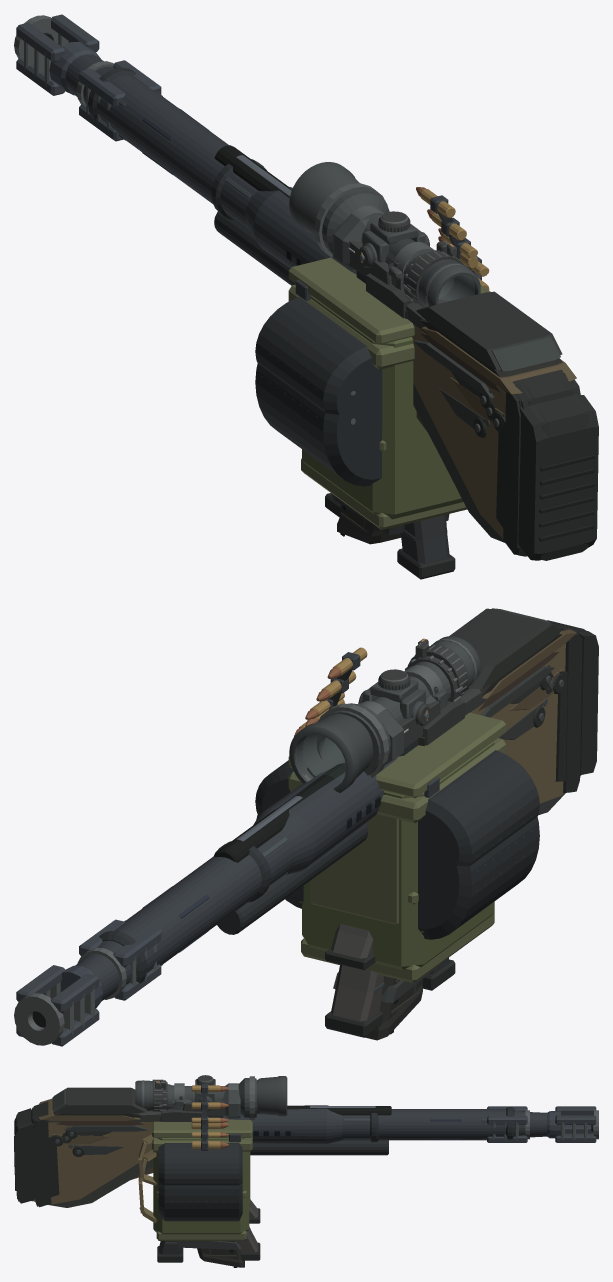
The model's file is weapon-upgrades.glb.
3 views of the same model, one above another, from view 1: azimuth 30°, elevation 25°; view 2: azimuth 150°, elevation 25°; view 3: azimuth 270°, elevation 25° (orthographic). The views are drawn at different scales.
Parts seen in each view (by area): view 1: stable-stock_ar416_Frame, compensator_pkp_Barrel, extended-magazine_pkp_MagazineBody, stable-stock_dmr12_Frame, fast-magazine_mg36_MagazineBody, fast-magazine_pkp_MagazineBody, extended-magazine_mg36_MagazineBody, horizon-610_Shared_Housing, light-stock_ar416_Frame, compensator_sv98_Ports, horizon-610_Shared_HousingLow, extended-magazine_vk45_MagazineBody (+11 smaller); view 2: compensator_pkp_Barrel, extended-magazine_pkp_MagazineBody, fast-magazine_mg36_MagazineBody, stable-stock_ar416_Frame, fast-magazine_pkp_MagazineBody, stable-stock_dmr12_Frame, extended-magazine_mg36_MagazineBody, horizon-610_Shared_Housing, compensator_pkp_Ports, horizon-610_Shared_HousingLow, extended-magazine_mcx9_MagazineBody, stable-stock_mg36_Frame (+11 smaller); view 3: compensator_pkp_Barrel, stable-stock_ar416_Frame, stable-stock_dmr12_Frame, extended-magazine_pkp_MagazineBody, fast-magazine_mg36_MagazineBody, extended-magazine_mg36_MagazineBody, fast-magazine_pkp_MagazineBody, horizon-610_Shared_Housing, compensator_pkp_Ports, stable-stock_mg36_Frame, compensator_dmr12_Ports, compensator_sv98_Ports (+13 smaller).
Boxes of the visible parts, x1=… form: stable-stock_ar416_Frame: x1=412, y1=324, x2=598, y2=560; compensator_pkp_Barrel: x1=65, y1=54, x2=356, y2=285; extended-magazine_pkp_MagazineBody: x1=288, y1=187, x2=489, y2=530; stable-stock_dmr12_Frame: x1=406, y1=291, x2=580, y2=554; fast-magazine_mg36_MagazineBody: x1=255, y1=271, x2=382, y2=431; fast-magazine_pkp_MagazineBody: x1=288, y1=223, x2=490, y2=451; extended-magazine_mg36_MagazineBody: x1=255, y1=271, x2=382, y2=486; horizon-610_Shared_Housing: x1=289, y1=162, x2=480, y2=307; light-stock_ar416_Frame: x1=535, y1=396, x2=589, y2=560; compensator_sv98_Ports: x1=15, y1=15, x2=101, y2=95; horizon-610_Shared_HousingLow: x1=291, y1=162, x2=480, y2=305; extended-magazine_vk45_MagazineBody: x1=397, y1=514, x2=455, y2=579; compensator_pkp_Barrel: x1=75, y1=756, x2=398, y2=1000; extended-magazine_pkp_MagazineBody: x1=288, y1=647, x2=506, y2=982; fast-magazine_mg36_MagazineBody: x1=255, y1=739, x2=539, y2=869; stable-stock_ar416_Frame: x1=470, y1=629, x2=598, y2=803; fast-magazine_pkp_MagazineBody: x1=288, y1=679, x2=506, y2=904; stable-stock_dmr12_Frame: x1=449, y1=608, x2=582, y2=815; extended-magazine_mg36_MagazineBody: x1=256, y1=739, x2=539, y2=939; horizon-610_Shared_Housing: x1=289, y1=636, x2=480, y2=792; compensator_pkp_Ports: x1=14, y1=965, x2=98, y2=1046; horizon-610_Shared_HousingLow: x1=291, y1=636, x2=479, y2=792; extended-magazine_mcx9_MagazineBody: x1=325, y1=964, x2=384, y2=1037; stable-stock_mg36_Frame: x1=481, y1=666, x2=567, y2=781; compensator_pkp_Barrel: x1=223, y1=1105, x2=547, y2=1155; stable-stock_ar416_Frame: x1=14, y1=1098, x2=152, y2=1204; stable-stock_dmr12_Frame: x1=33, y1=1087, x2=161, y2=1207; extended-magazine_pkp_MagazineBody: x1=138, y1=1084, x2=252, y2=1240; fast-magazine_mg36_MagazineBody: x1=158, y1=1115, x2=242, y2=1185; extended-magazine_mg36_MagazineBody: x1=158, y1=1115, x2=242, y2=1221; fast-magazine_pkp_MagazineBody: x1=138, y1=1105, x2=252, y2=1197; horizon-610_Shared_Housing: x1=135, y1=1076, x2=287, y2=1116; compensator_pkp_Ports: x1=557, y1=1106, x2=598, y2=1142; stable-stock_mg36_Frame: x1=48, y1=1125, x2=149, y2=1197; compensator_dmr12_Ports: x1=487, y1=1106, x2=529, y2=1142; compensator_sv98_Ports: x1=547, y1=1106, x2=598, y2=1142.
Size of the model in its own units: 0.29 by 0.4388 by 1.23.
